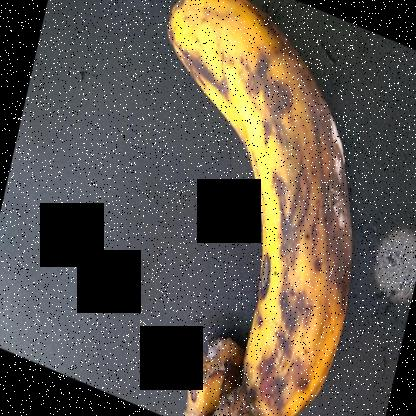overripe: (154, 1, 341, 415)
rotten: (249, 45, 380, 305)
